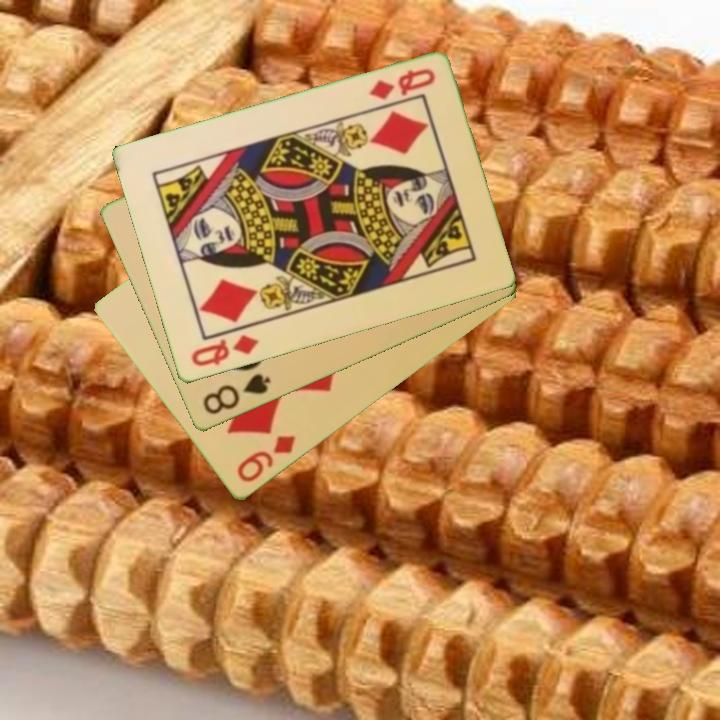8s: (199, 370, 274, 418)
9d: (233, 432, 299, 486)
Qd: (365, 65, 439, 104), (187, 332, 261, 370)
